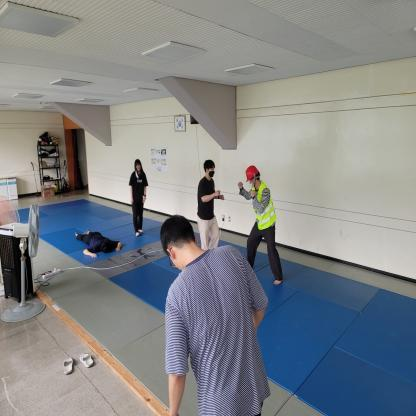Fall: (74, 227, 120, 258)
Standing: (159, 215, 264, 416), (243, 164, 283, 283), (197, 158, 220, 248), (129, 159, 149, 240)
safety_equipment: (253, 182, 275, 226), (244, 164, 260, 182)
